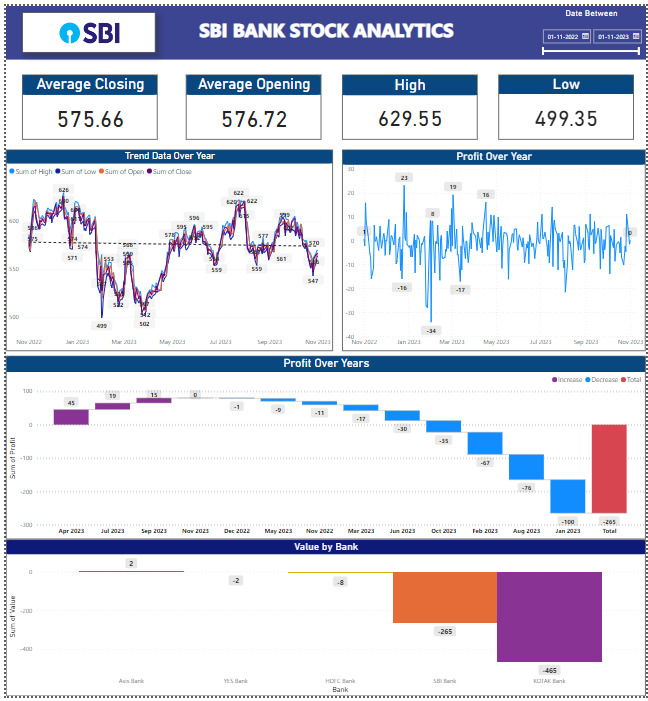

This screenshot's page, from the dashboard's own definition file:
{"tool":"powerbi","page":{"name":"Page 1","canvas":[1280,1380],"ordinal":0},"visuals":[{"type":"textbox","box":[0,0,1281.1,107.6],"z":0},{"type":"slicer","title":"Date Between","fields":{"Values":["SBIN NS.Date"]},"box":[1059.8,0,221.3,107.6],"z":1000},{"type":"image","box":[31.8,13.4,266.5,80.7],"z":2000},{"type":"card","title":"Average Closing","fields":{"Values":["Avg(SBIN NS.Close)"]},"box":[31.8,136.9,270.2,129.6],"z":3000},{"type":"card","title":"Average Opening","fields":{"Values":["Avg(SBIN NS.Open)"]},"box":[360.6,136.9,270.2,129.6],"z":4000},{"type":"card","title":"High","fields":{"Values":["Max(SBIN NS.High)"]},"box":[673.5,136.9,270.2,129.6],"z":5000},{"type":"card","title":"Low","fields":{"Values":["Min(SBIN NS.Low)"]},"box":[984,136.9,270.2,129.6],"z":6000},{"type":"lineChart","title":"Trend Data Over Year","fields":{"Y":["Sum(SBIN NS.High)","Sum(SBIN NS.Low)","Sum(SBIN NS.Open)","Sum(SBIN NS.Close)"],"Category":["SBIN NS.Date"]},"box":[0,287.2,653.8,402.6],"z":7000},{"type":"lineChart","title":"Profit Over Year","fields":{"Category":["SBIN NS.Date"],"Y":["Sum(SBIN NS.Profit)"]},"box":[673.1,287.2,606.4,402.6],"z":7001},{"type":"waterfallChart","title":"Profit Over Years","fields":{"Category":["SBIN NS.Month_Year"],"Y":["Sum(SBIN NS.Profit)"]},"box":[0,700,1279.5,366.7],"z":7002},{"type":"clusteredColumnChart","title":"Value by Bank","fields":{"Category":["Profit Comparison.Bank"],"Y":["Sum(Profit Comparison.Value)"]},"box":[0,1066.7,1279.5,312.8],"z":7003}]}

Visuals, with their boxes in screenshot pixels (x1, y1, x2, y2), scaled from the page's 1280x1380 canvas onto the 648x701 screenshot:
textbox: bbox=[0, 0, 647, 55]
"Date Between" slicer: bbox=[537, 0, 647, 55]
image: bbox=[16, 7, 151, 48]
"Average Closing" card: bbox=[16, 70, 153, 135]
"Average Opening" card: bbox=[183, 70, 319, 135]
"High" card: bbox=[341, 70, 478, 135]
"Low" card: bbox=[498, 70, 635, 135]
"Trend Data Over Year" lineChart: bbox=[0, 146, 331, 350]
"Profit Over Year" lineChart: bbox=[341, 146, 647, 350]
"Profit Over Years" waterfallChart: bbox=[0, 356, 647, 542]
"Value by Bank" clusteredColumnChart: bbox=[0, 542, 647, 700]
